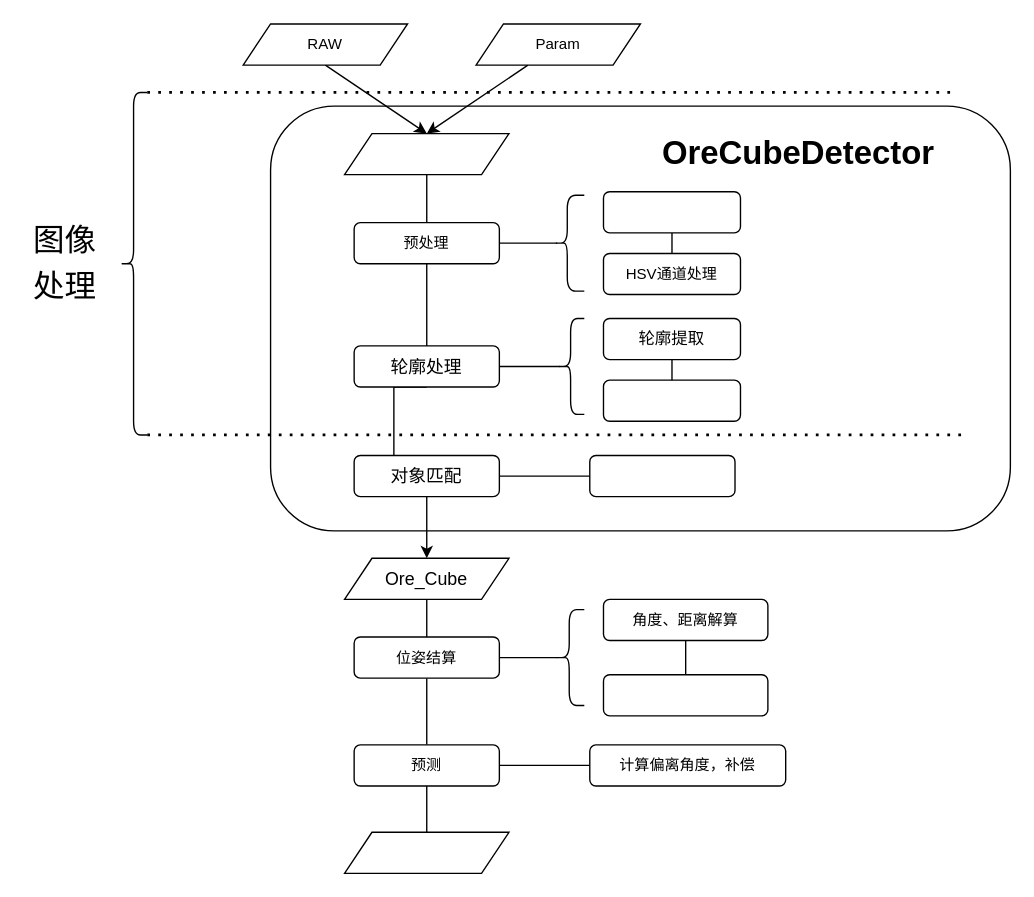
The diagram is 1034 pixels wide and 897 high, and some of its shapes have lost their labels. Each missing label, with the centre of its shape:
"BGR图像转HSV" goes at point 671,211.
"image" goes at point 426,153.
"匹配矿石" goes at point 661,475.
"坐标系位置解算" goes at point 685,694.
"机械爪反馈" goes at point 426,852.
"轮廓拟合" goes at point 671,400.
